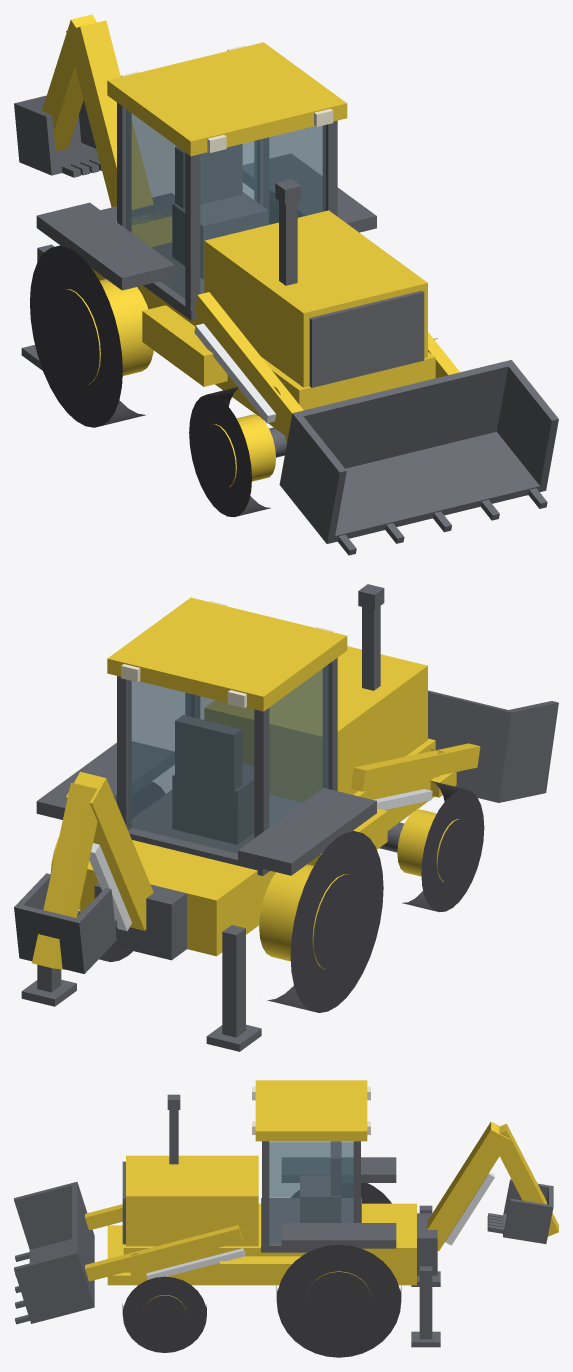
The model's file is backhoe_loader.glb.
3 renders of one model, top to bottom at view 1: azimuth 30°, elevation 25°; view 2: azimuth 150°, elevation 25°; view 3: azimuth 270°, elevation 25°, orthographic. The views are drawn at different scales.
Parts seen in each view (by area): view 1: FrontBucket, Chassis, CabGlass, CabFrame, Details, CabRoof, RearTire_Left, FrontTire_Left, MainBoom, RearDiggingBucket, FrontLoaderAssembly, DipperArm (+5 smaller); view 2: Chassis, CabGlass, CabFrame, CabRoof, RearTire_Left, Details, FrontBucket, FrontTire_Left, RearDiggingBucket, DipperArm, Stabilizers, MainBoom (+8 smaller); view 3: Chassis, RearTire_Right, FrontBucket, CabFrame, CabGlass, CabRoof, FrontTire_Right, Details, FrontLoaderAssembly, MainBoom, RearDiggingBucket, DipperArm (+5 smaller).
Part boxes in pixels (left/top/right/bottom): FrontBucket: left=279, top=360, right=558, bottom=555; Chassis: left=91, top=210, right=435, bottom=441; CabGlass: left=126, top=109, right=325, bottom=298; CabFrame: left=36, top=102, right=376, bottom=320; Details: left=172, top=144, right=424, bottom=387; CabRoof: left=107, top=42, right=347, bottom=156; RearTire_Left: left=30, top=245, right=145, bottom=427; FrontTire_Left: left=189, top=386, right=270, bottom=517; MainBoom: left=66, top=20, right=153, bottom=209; RearDiggingBucket: left=14, top=95, right=101, bottom=177; FrontLoaderAssembly: left=194, top=292, right=459, bottom=429; DipperArm: left=42, top=14, right=96, bottom=150; Chassis: left=80, top=646, right=456, bottom=956; CabGlass: left=128, top=665, right=328, bottom=853; CabFrame: left=36, top=658, right=376, bottom=875; CabRoof: left=107, top=597, right=347, bottom=711; RearTire_Left: left=267, top=831, right=383, bottom=1012; Details: left=172, top=584, right=384, bottom=844; FrontBucket: left=428, top=690, right=558, bottom=802; FrontTire_Left: left=402, top=780, right=484, bottom=912; RearDiggingBucket: left=14, top=873, right=117, bottom=973; DipperArm: left=32, top=783, right=97, bottom=969; Stabilizers: left=21, top=925, right=261, bottom=1051; MainBoom: left=66, top=772, right=153, bottom=930; Chassis: left=107, top=1155, right=416, bottom=1285; RearTire_Right: left=276, top=1244, right=401, bottom=1357; FrontBucket: left=14, top=1182, right=94, bottom=1324; CabFrame: left=261, top=1141, right=396, bottom=1252; CabGlass: left=269, top=1141, right=353, bottom=1242; CabRoof: left=255, top=1080, right=367, bottom=1141; FrontTire_Right: left=122, top=1276, right=206, bottom=1352; Details: left=122, top=1094, right=341, bottom=1244; FrontLoaderAssembly: left=85, top=1204, right=242, bottom=1281; MainBoom: left=427, top=1121, right=509, bottom=1250; RearDiggingBucket: left=487, top=1179, right=553, bottom=1243; DipperArm: left=499, top=1124, right=558, bottom=1236.
Size of the model in its own units: 2.22 by 2.52 by 5.95.
